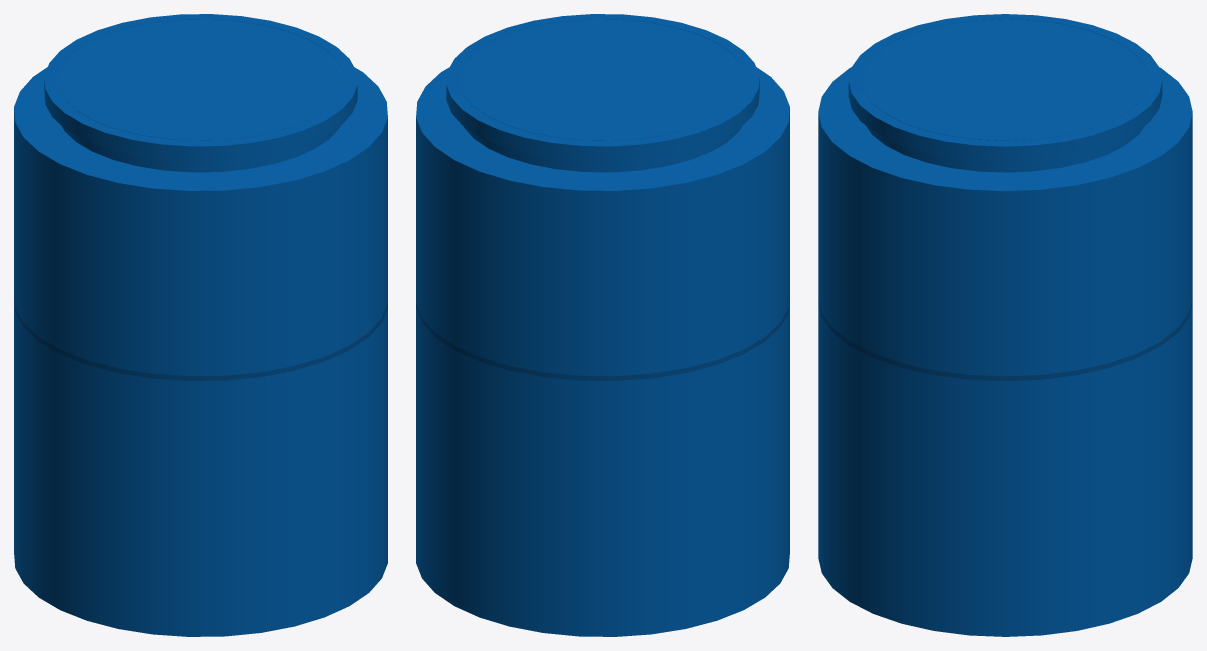
File: Digester.fbx
3 views of the same model, side by side, from view 1: azimuth 30°, elevation 25°; view 2: azimuth 150°, elevation 25°; view 3: azimuth 270°, elevation 25° (orthographic).
Parts seen in each view (by area): view 1: Digester; view 2: Digester; view 3: Digester.
Part boxes in pixels (box(x1,y1,x2,y2)): Digester: box(14, 14, 387, 636); Digester: box(416, 14, 789, 636); Digester: box(818, 14, 1192, 636).
Size of the model in its own units: 250 by 352 by 250.
